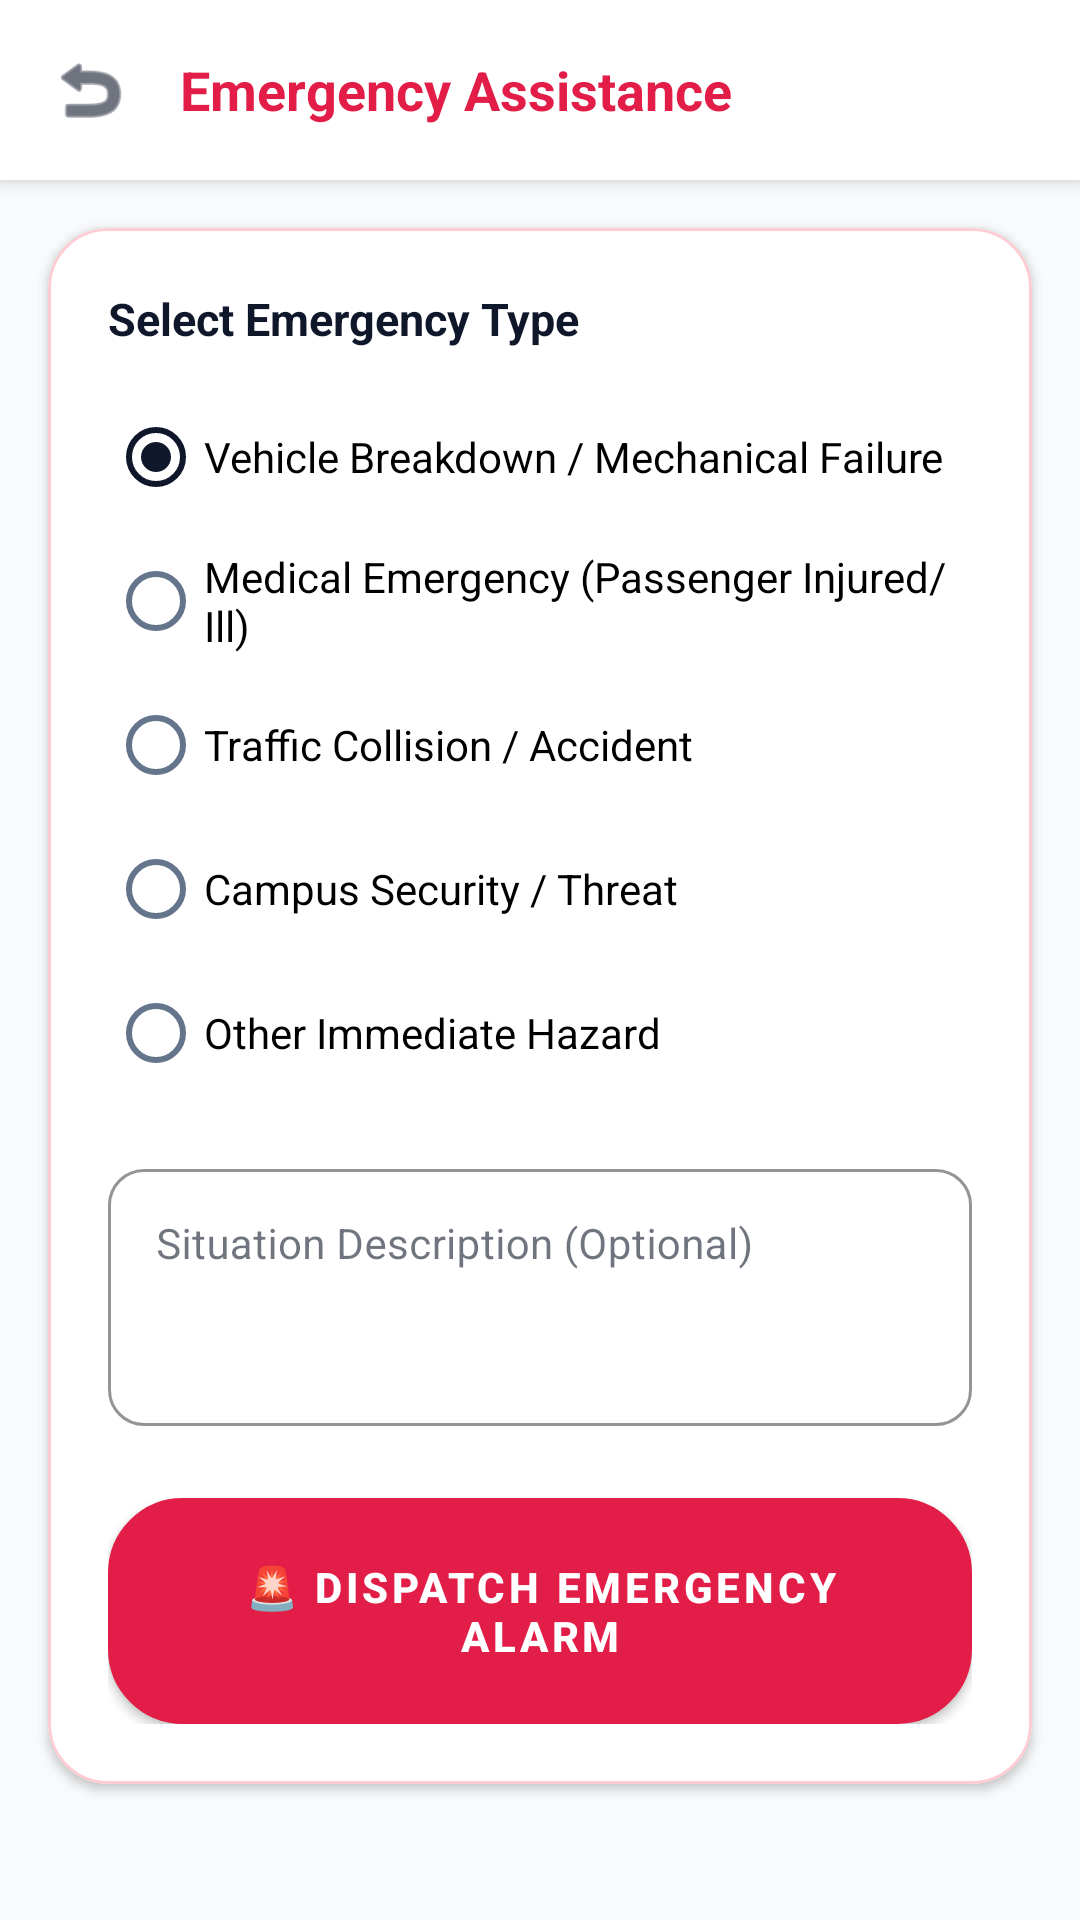

Point at icon controls on the screen. Image size 1080*1920, points as (x,y).
revert: (91,90)
